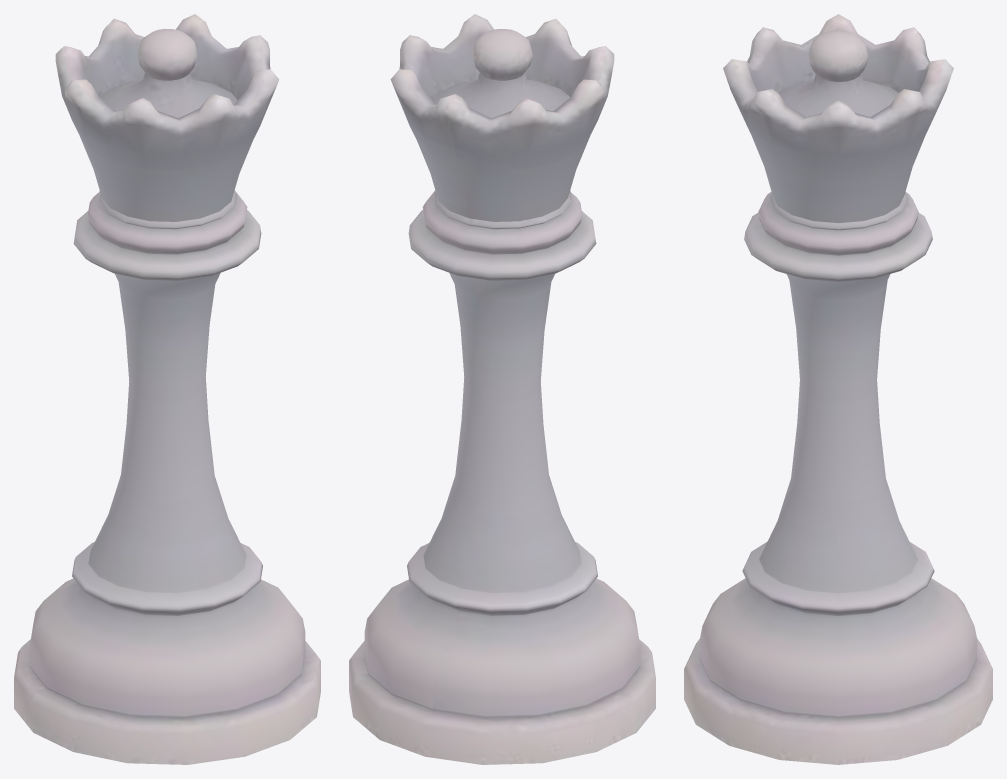
File: queen_white.glb
3 views of the same model, side by side, from view 1: azimuth 30°, elevation 25°; view 2: azimuth 150°, elevation 25°; view 3: azimuth 270°, elevation 25° (orthographic).
Visible parts, largest first — view 1: queen_white; view 2: queen_white; view 3: queen_white.
Boxes of the visible parts, bbox=[...] form: queen_white: bbox=[14, 14, 320, 764]; queen_white: bbox=[349, 14, 655, 764]; queen_white: bbox=[684, 14, 992, 764].
Size of the model in its own units: 1.49 by 3.55 by 1.49.
1 material, 1 textured.
